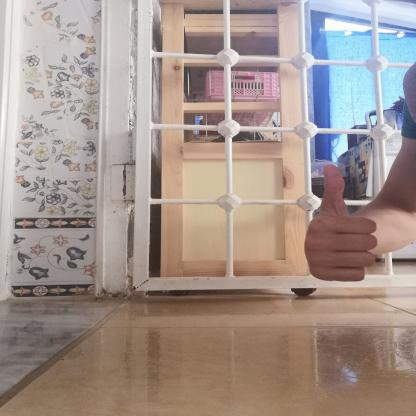ALIF: (295, 153, 384, 289)
